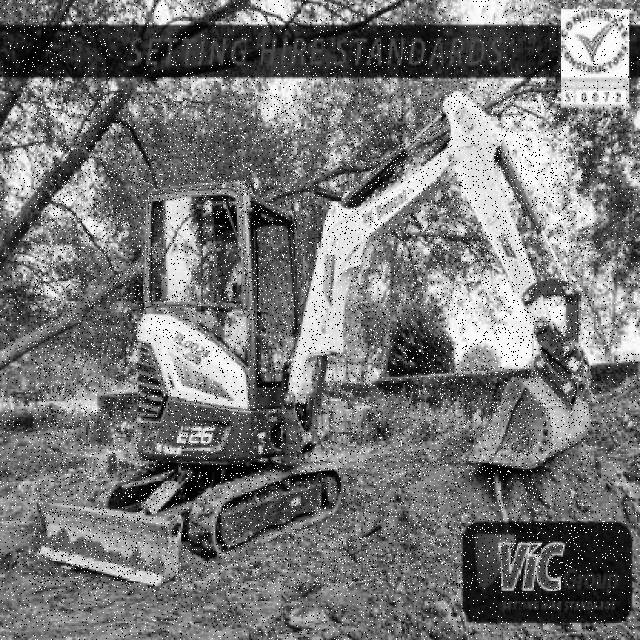Construction Equipment: (34, 93, 592, 590)
